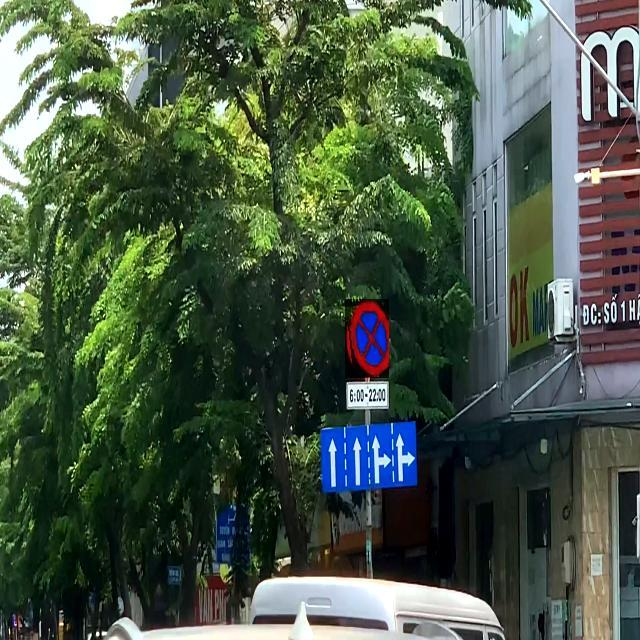P-130: (345, 299, 389, 378)
